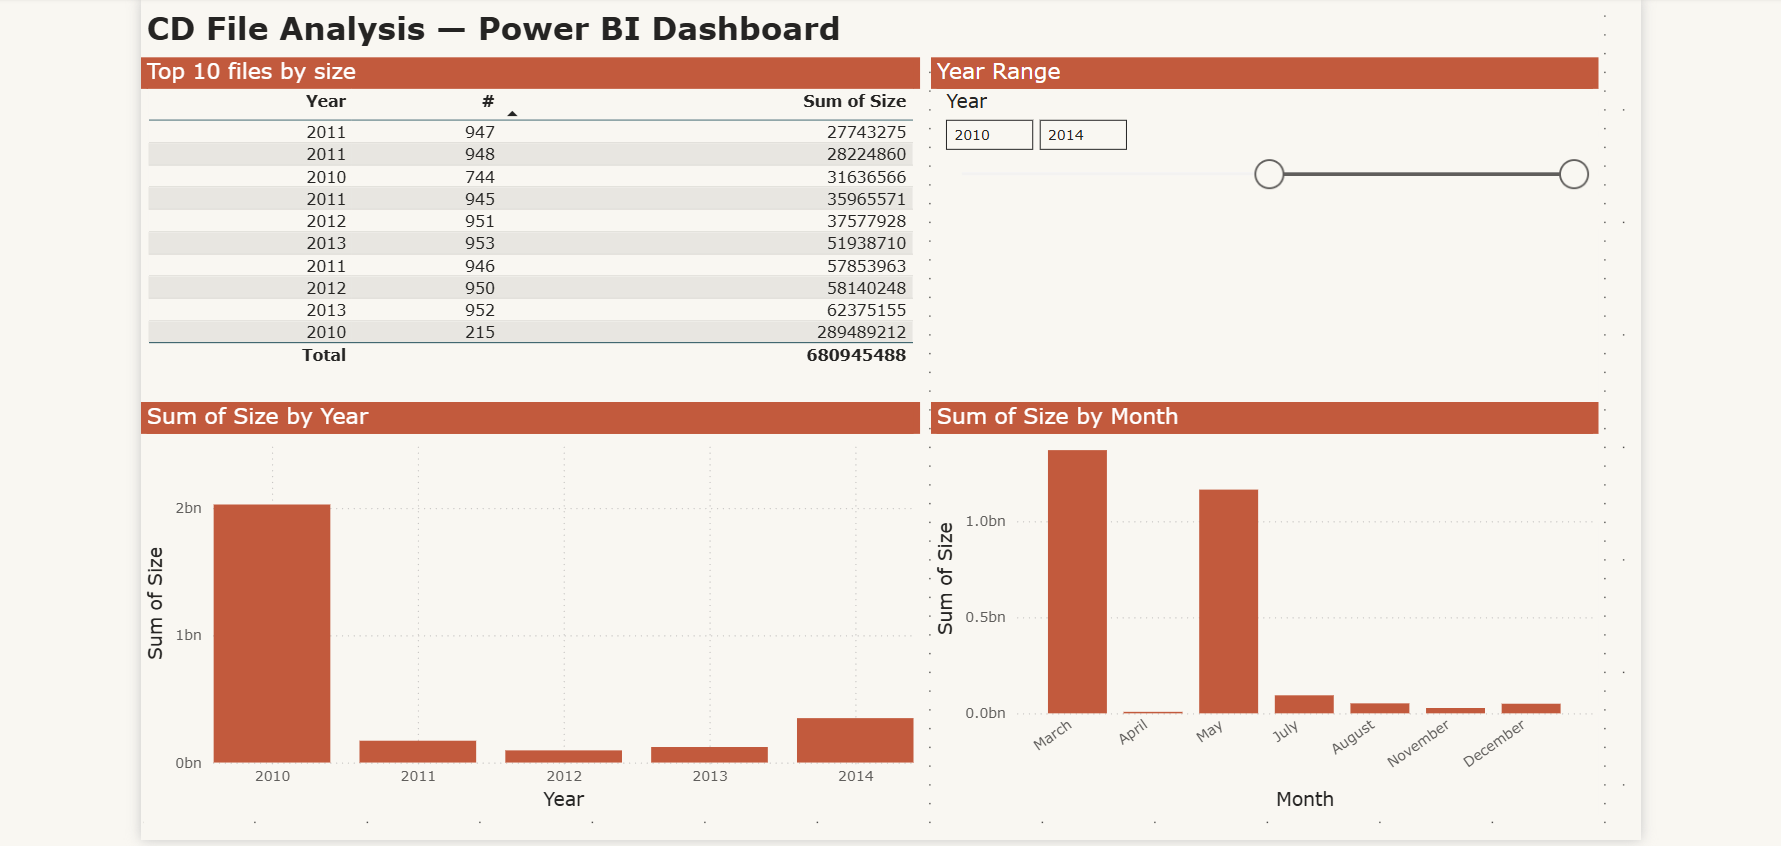

The dashboard page shown, as its layout file describes it:
{"tool":"powerbi","page":{"name":"Dashboard","canvas":[1280,720],"ordinal":0},"visuals":[{"type":"tableEx","title":"Top 10 files by size","fields":{"Values":["PA - CDs.Date created.Variation.Date Hierarchy.Year","PA - CDs.#","Sum(PA - CDs.Size)"]},"box":[0,51.2,664.5,294.4],"z":0},{"type":"columnChart","fields":{"Category":["PA - CDs.Date created.Variation.Date Hierarchy.Year"],"Y":["Sum(PA - CDs.Size)"]},"box":[0,345.6,664.5,353.1],"z":1000},{"type":"columnChart","fields":{"Category":["PA - CDs.Date created.Variation.Date Hierarchy.Month"],"Y":["Sum(PA - CDs.Size)"]},"box":[674.1,345.6,569.6,353.1],"z":2000},{"type":"slicer","title":"Year Range","fields":{"Values":["PA - CDs.Date created.Variation.Date Hierarchy.Year"]},"box":[674.1,51.2,569.6,294.4],"z":3000},{"type":"textbox","box":[0,4.3,1243.7,46.9],"z":3001}]}

Visuals, with their boxes on the page's 1280x720 design canvas (x1, y1, x2, y2). These are canvas units, not pixel positions in the 1781x846 screenshot, which may show the page scaled, cropped or inside an application window:
"Top 10 files by size" tableEx: [x1=0, y1=51, x2=664, y2=346]
columnChart - PA - CDs.Date created.Variation.Date Hierarchy.Year x Sum(PA - CDs.Size): [x1=0, y1=346, x2=664, y2=699]
columnChart - PA - CDs.Date created.Variation.Date Hierarchy.Month x Sum(PA - CDs.Size): [x1=674, y1=346, x2=1244, y2=699]
"Year Range" slicer: [x1=674, y1=51, x2=1244, y2=346]
textbox: [x1=0, y1=4, x2=1244, y2=51]
